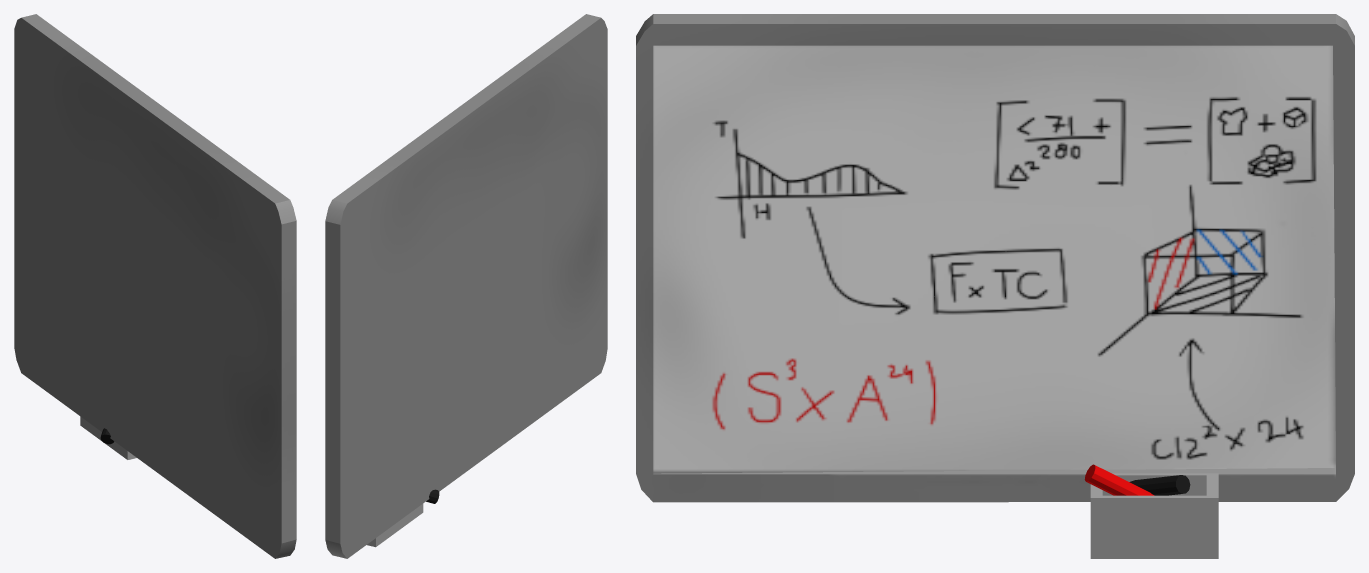
File: Whitebord.fbx
3 renders of one model, left to right at view 1: azimuth 30°, elevation 25°; view 2: azimuth 150°, elevation 25°; view 3: azimuth 270°, elevation 25°, orthographic. The views are drawn at different scales.
Parts seen in each view (by area): view 1: pCylinder3; view 2: pCylinder3; view 3: pCylinder3.
Boxes of the visible parts, left/top/right/bottom form: pCylinder3: left=14, top=14, right=296, bottom=558; pCylinder3: left=325, top=14, right=607, bottom=558; pCylinder3: left=636, top=14, right=1354, bottom=558.
Size of the model in its own units: 0.7473 by 4.4 by 5.62.
